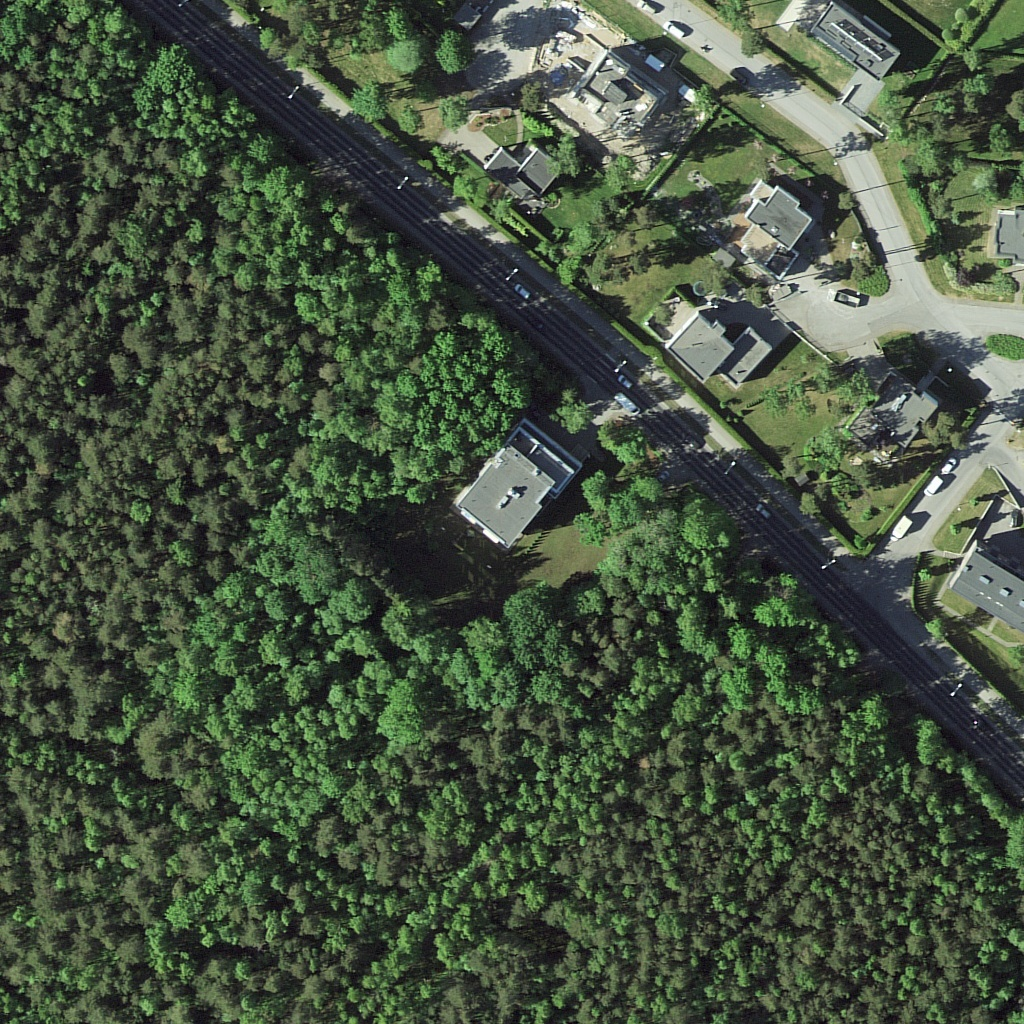building: (457, 446, 557, 551), (837, 369, 932, 466), (816, 2, 900, 83), (947, 543, 1023, 631), (589, 59, 658, 141), (665, 310, 735, 384), (745, 184, 812, 257), (488, 144, 558, 203)
